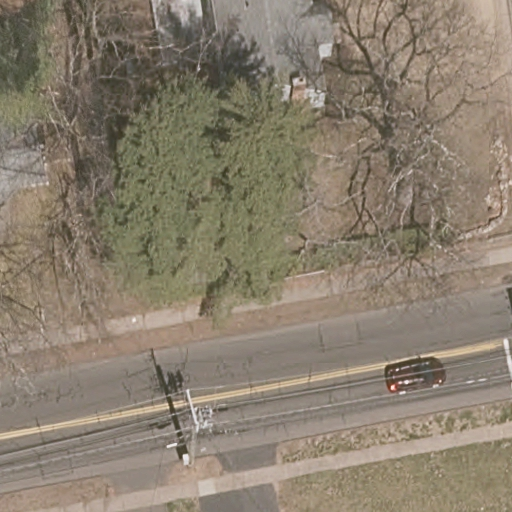DT: (165, 388, 215, 469)
